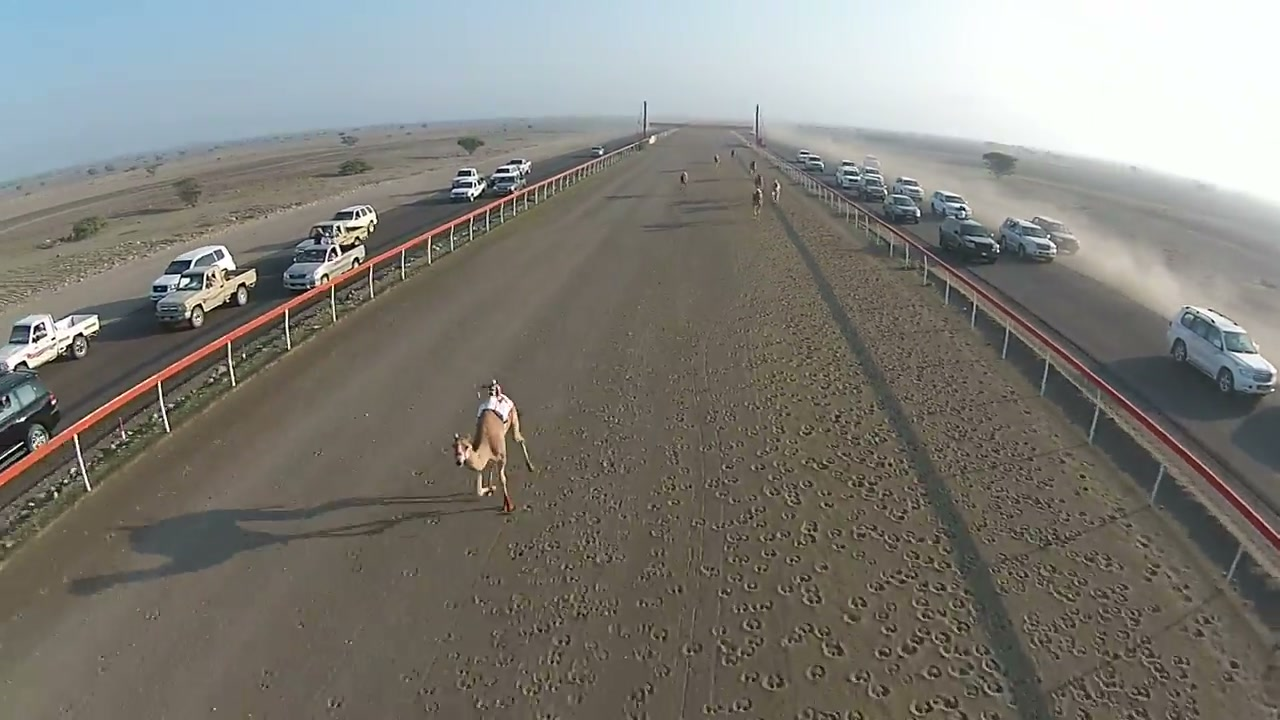animal_foot_print: (219, 172, 1275, 719), (422, 197, 1271, 719), (787, 211, 1273, 716), (477, 487, 493, 496)
